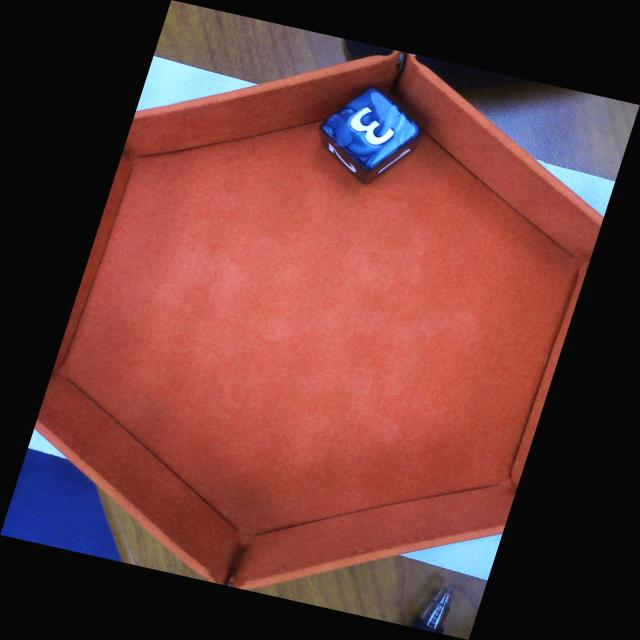dice: (319, 85, 424, 173)
